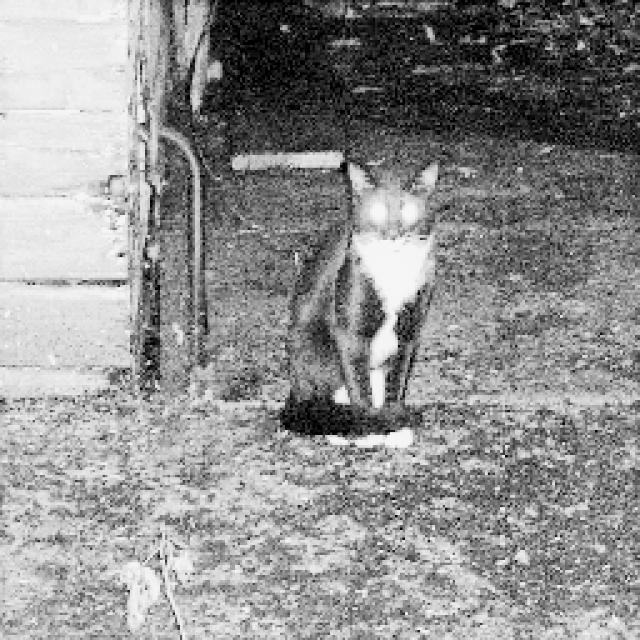cat: (243, 121, 492, 461)
